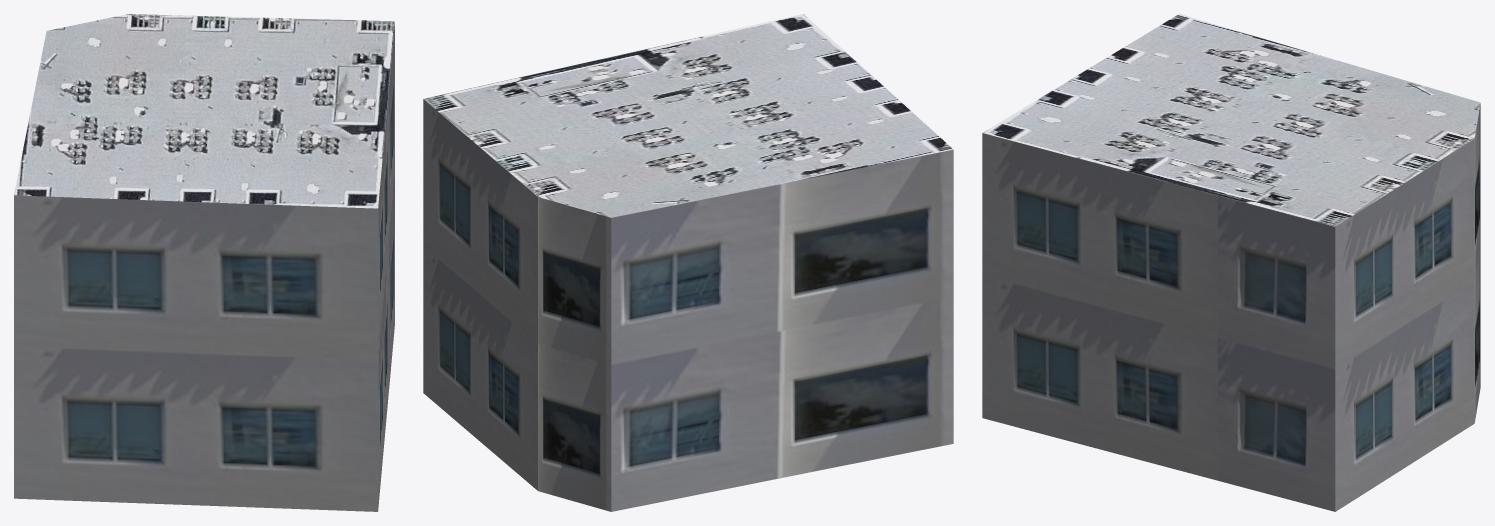
File: ResTex__688.fbx
3 views of the same model, side by side, from view 1: azimuth 30°, elevation 25°; view 2: azimuth 150°, elevation 25°; view 3: azimuth 270°, elevation 25° (orthographic). The views are drawn at different scales.
Parts seen in each view (by area): view 1: CityEngineMaterial_10_m, CityEngineMaterial_2_m; view 2: CityEngineMaterial_10_m, CityEngineMaterial_2_m; view 3: CityEngineMaterial_10_m, CityEngineMaterial_2_m.
Part boxes in pixels (box(x1,y1,x2,y2)): CityEngineMaterial_10_m: box(14, 23, 394, 511); CityEngineMaterial_2_m: box(14, 14, 394, 208); CityEngineMaterial_10_m: box(423, 99, 953, 511); CityEngineMaterial_2_m: box(423, 14, 953, 217); CityEngineMaterial_10_m: box(982, 103, 1480, 511); CityEngineMaterial_2_m: box(983, 14, 1480, 226).
Bounding box in the file's own units: 9.61 × 6 × 9.5.
2 materials, 2 textured.
